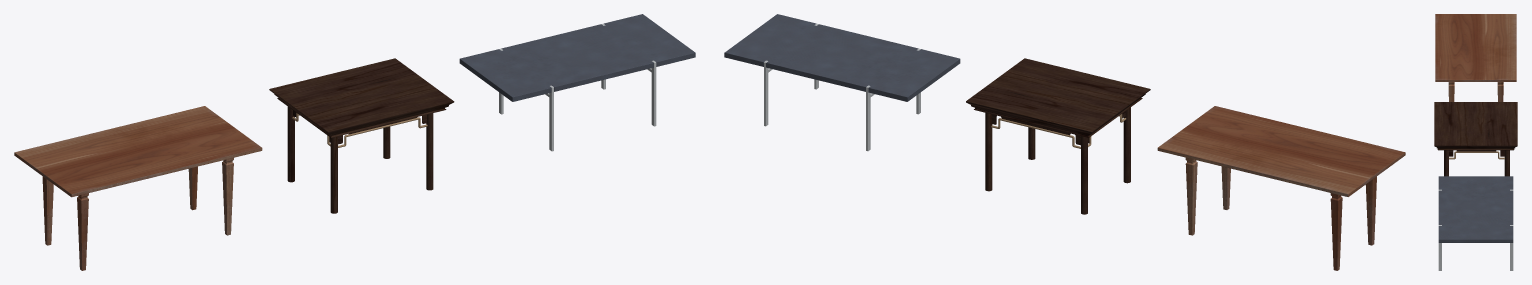
The model's file is table.fbx.
3 views of the same model, side by side, from view 1: azimuth 30°, elevation 25°; view 2: azimuth 150°, elevation 25°; view 3: azimuth 270°, elevation 25° (orthographic). The views are drawn at different scales.
Visible parts, largest first — view 1: Table3, Table1, Table2; view 2: Table3, Table1, Table2; view 3: Table3, Table1, Table2.
Boxes of the visible parts, x1,y1,x2,y2 form: Table3: [14, 106, 262, 270]; Table1: [459, 14, 695, 151]; Table2: [269, 58, 454, 213]; Table3: [1157, 106, 1405, 270]; Table1: [724, 14, 960, 151]; Table2: [966, 58, 1150, 214]; Table3: [1435, 14, 1516, 101]; Table1: [1438, 176, 1513, 270]; Table2: [1434, 102, 1517, 176].
Bounding box in the file's own units: 410 × 56.37 × 66.84.
